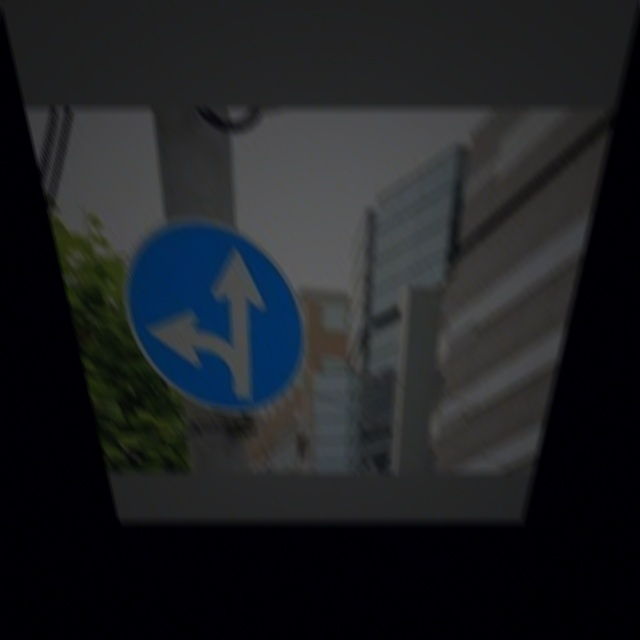Compulsory_Ahead_or_Turn_Left: (112, 220, 304, 411)
